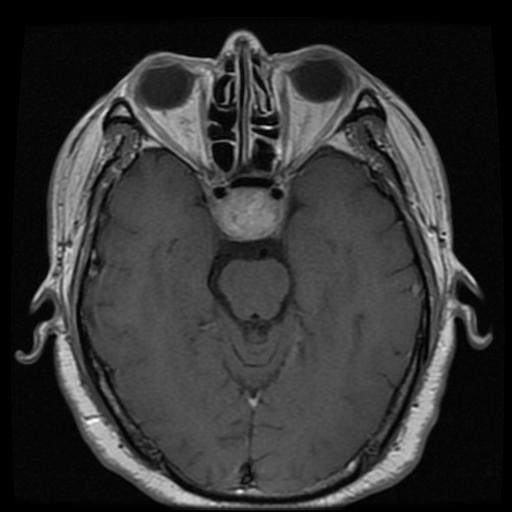Pituirity_tumour: (214, 185, 280, 238)
